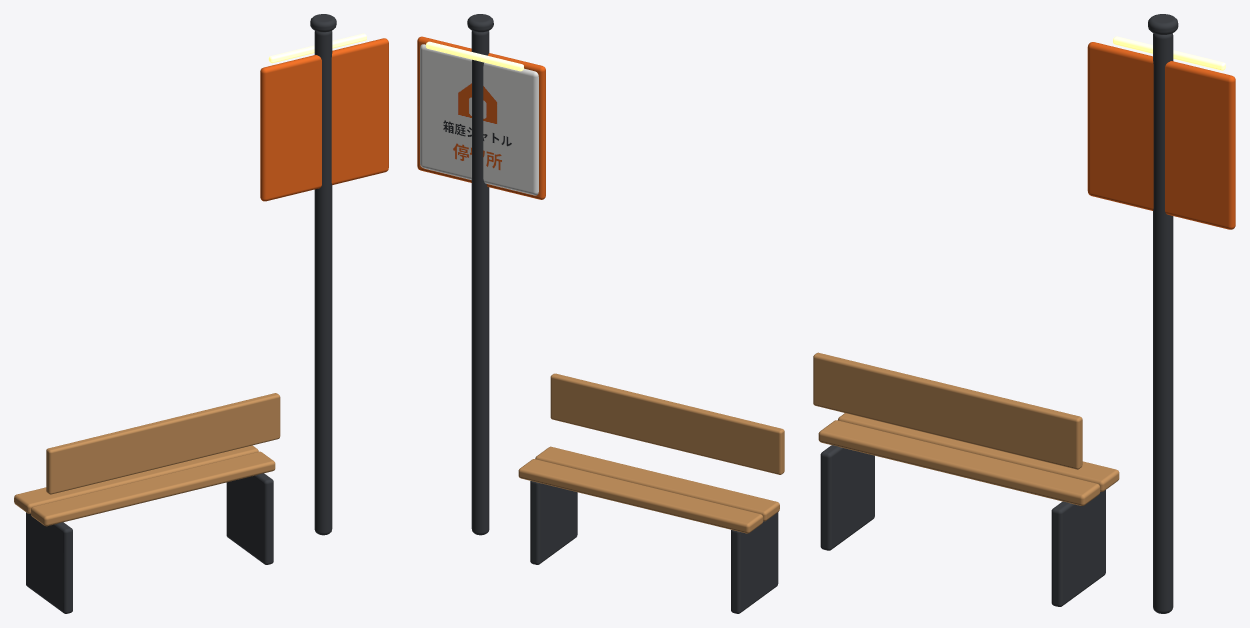
The model's file is hakoniwa-shuttle-stop.glb.
The picture shows the model from 3 angles, left to right: view 1: azimuth 30°, elevation 25°; view 2: azimuth 150°, elevation 25°; view 3: azimuth 330°, elevation 25°; orthographic projection. The views are drawn at different scales.
Size of the model in its own units: 1.83 by 2.55 by 0.37.
6 materials, 1 textured.
